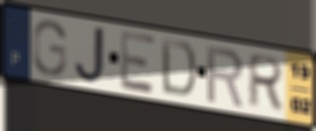D: (159, 35, 198, 100)
E: (118, 28, 158, 97)
G: (31, 18, 68, 78)
J: (72, 24, 107, 85)
R: (204, 43, 246, 110), (245, 52, 286, 112)
